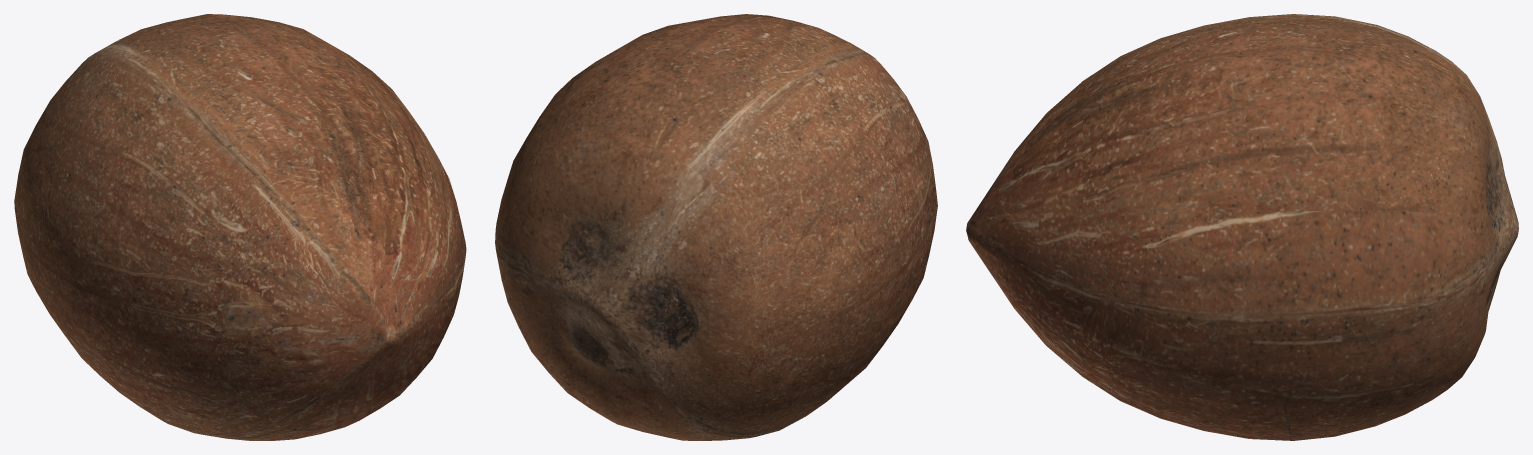
The model's file is coconut.fbx.
The picture shows the model from 3 angles, left to right: view 1: azimuth 30°, elevation 25°; view 2: azimuth 150°, elevation 25°; view 3: azimuth 270°, elevation 25°; orthographic projection. The views are drawn at different scales.
Parts seen in each view (by area): view 1: pSphere4; view 2: pSphere4; view 3: pSphere4.
Boxes of the visible parts, x1,y1,x2,y2 form: pSphere4: (14,14,466,440); pSphere4: (495,14,937,440); pSphere4: (966,14,1518,440).
Size of the model in its own units: 23.75 by 23.27 by 30.63.
Materials: 1 (1 with a texture image).
